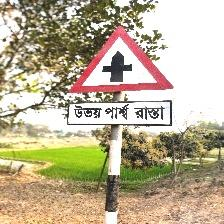Crossroad: (61, 23, 181, 127)
